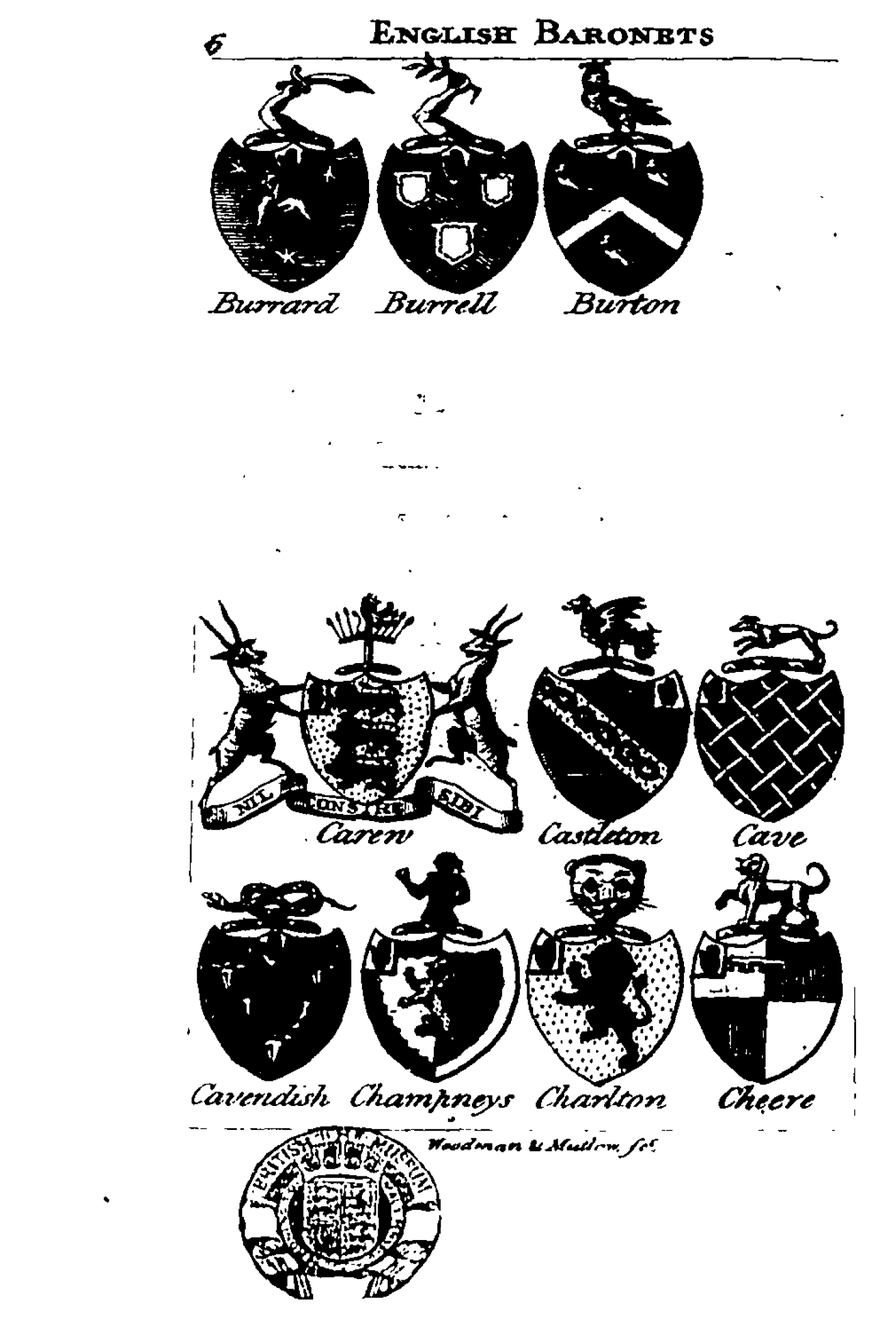coat_of_arms: (197, 575, 524, 859)
